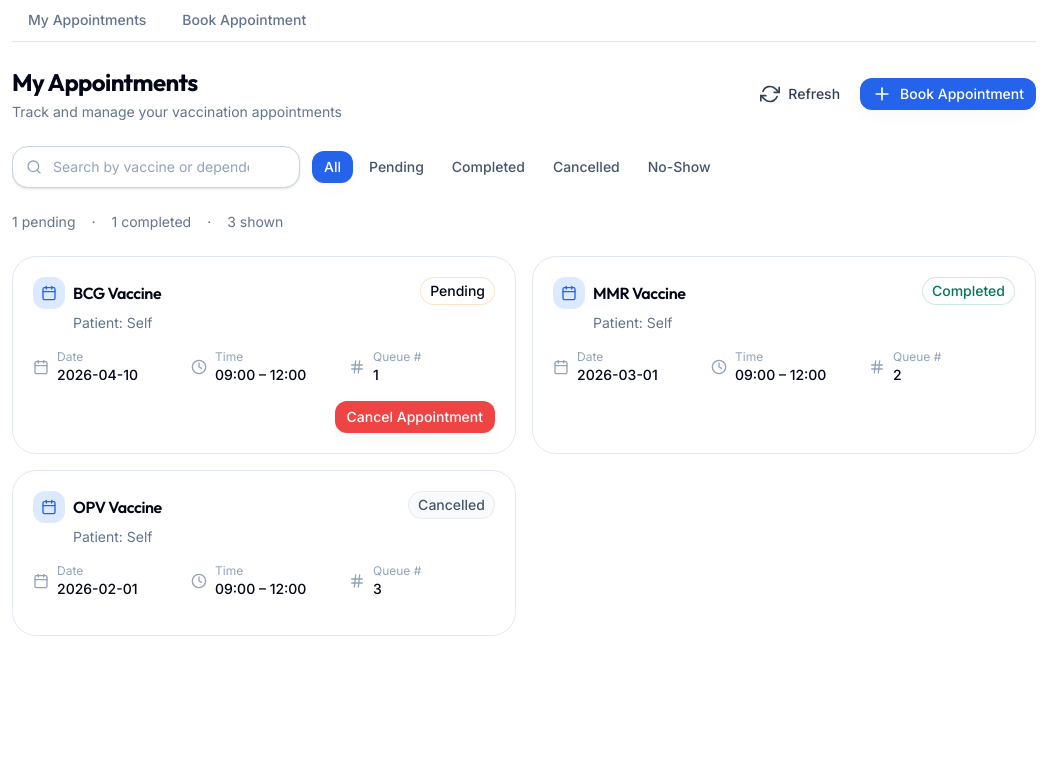
Test: AppointmentsPage › filters to only Completed appointments when Completed tab clicked
Expected: the heading "MMR Vaccine" is shown, [593,281,686,305]
What coordinates should you click on to do the following:
click the button "Completed"
I would click on:
 (488, 167)
Its box is [440,151,537,183].
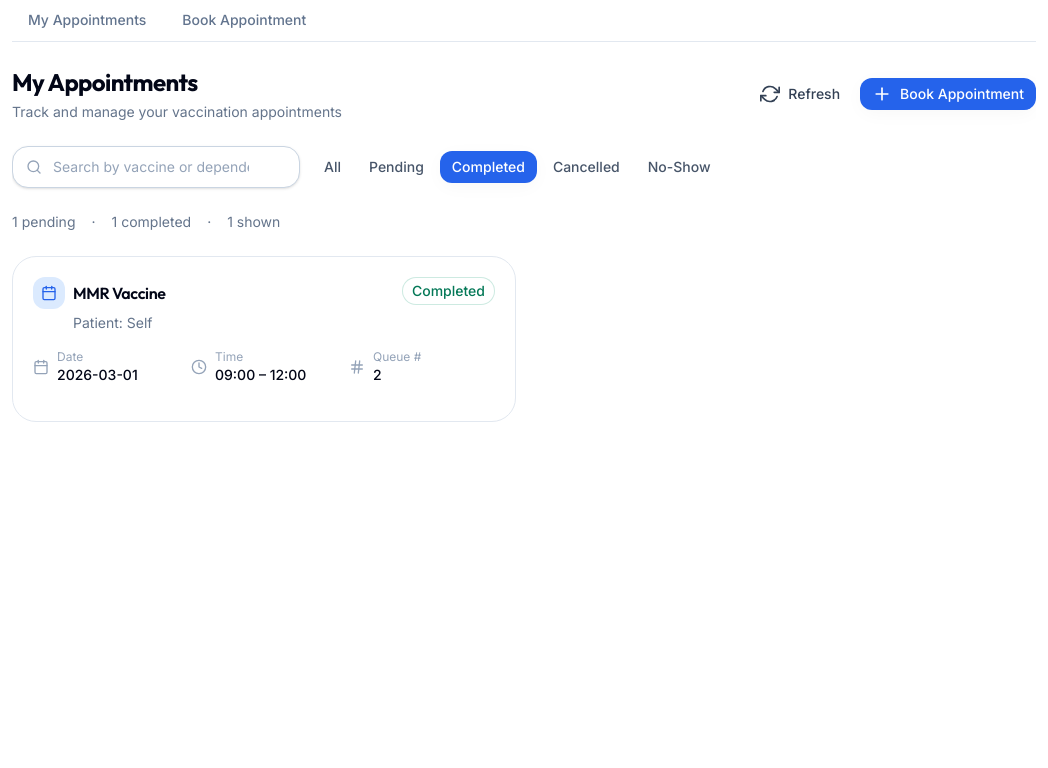
Expected: the heading "MMR Vaccine" is shown, [73,281,166,305]
Result: the heading "BCG Vaccine" is gone
